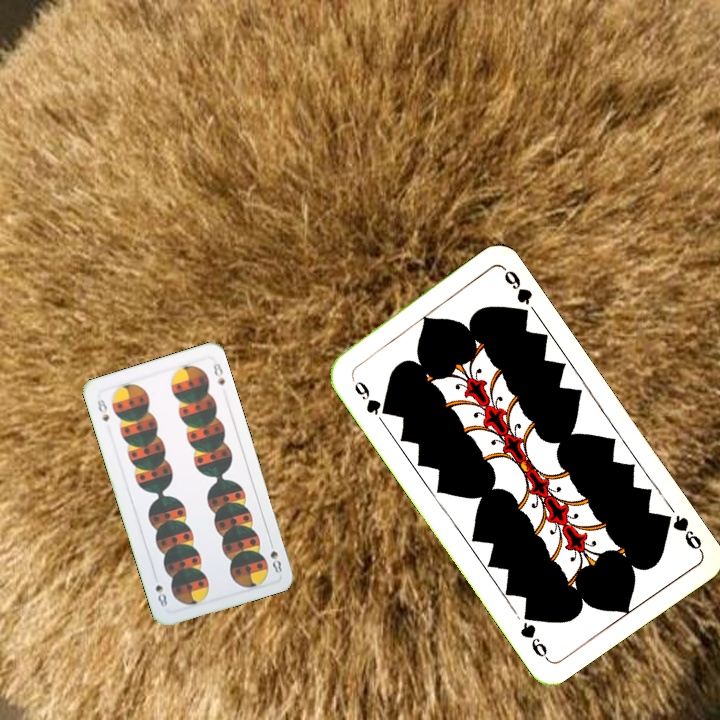G9: (346, 371, 392, 418), (656, 510, 705, 554)
S8: (93, 395, 112, 424), (266, 546, 284, 576)
